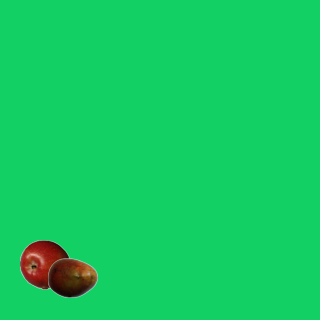Apple Braeburn: (19, 239, 69, 289)
Mango Red: (47, 252, 97, 302)
